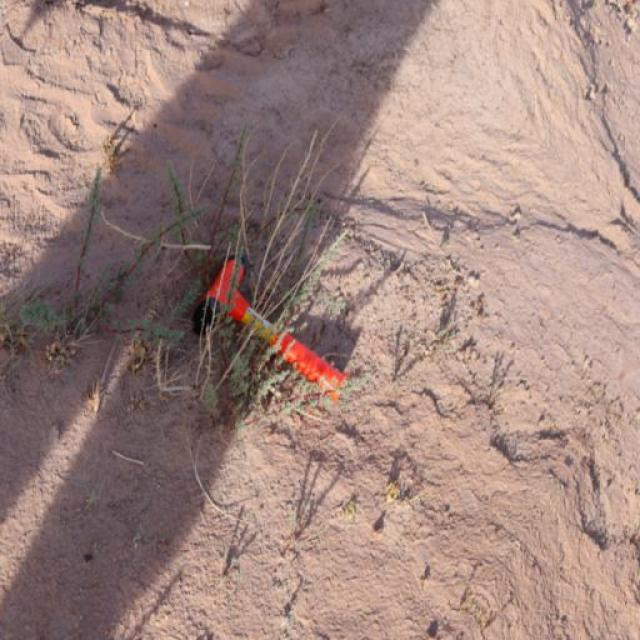mallet: (194, 255, 350, 401)
